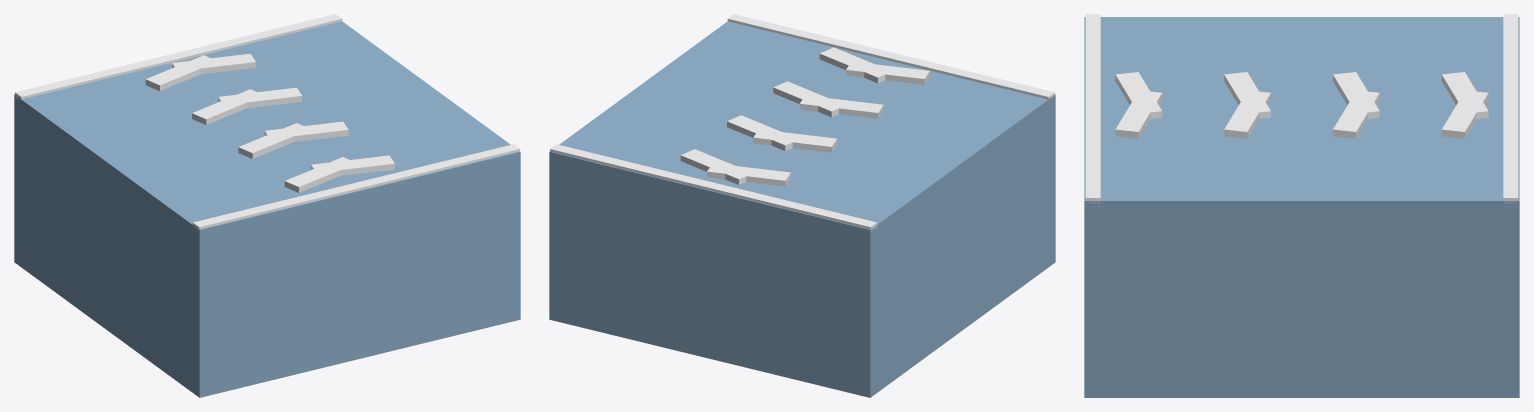
The model's file is OnOffConveyorB_TopHalf.glb.
The picture shows the model from 3 angles, left to right: view 1: azimuth 30°, elevation 25°; view 2: azimuth 150°, elevation 25°; view 3: azimuth 270°, elevation 25°; orthographic projection. The views are drawn at different scales.
Visible parts, largest first — view 1: OnOffConveyorB_TopHalf_body, rail_0.017, rail_-0.017, chev_1_-1.017, chev_2_-1.017, chev_0_1.017, chev_3_1.017, chev_3_-1.017, chev_0_-1.017, chev_2_1.017, chev_1_1.017; view 2: OnOffConveyorB_TopHalf_body, rail_0.017, rail_-0.017, chev_2_1.017, chev_1_1.017, chev_0_1.017, chev_3_1.017, chev_3_-1.017, chev_0_-1.017, chev_1_-1.017, chev_2_-1.017; view 3: OnOffConveyorB_TopHalf_body, rail_0.017, rail_-0.017, chev_0_1.017, chev_3_1.017, chev_1_1.017, chev_2_1.017, chev_0_-1.017, chev_3_-1.017, chev_1_-1.017, chev_2_-1.017.
Part boxes in pixels (x1=…): OnOffConveyorB_TopHalf_body: x1=14, y1=21, x2=520, y2=397; rail_0.017: x1=15, y1=14, x2=342, y2=100; rail_-0.017: x1=192, y1=144, x2=519, y2=230; chev_1_-1.017: x1=264, y1=121, x2=348, y2=141; chev_2_-1.017: x1=218, y1=87, x2=302, y2=108; chev_0_1.017: x1=284, y1=157, x2=356, y2=192; chev_3_1.017: x1=145, y1=55, x2=217, y2=90; chev_3_-1.017: x1=172, y1=53, x2=255, y2=74; chev_0_-1.017: x1=311, y1=155, x2=394, y2=175; chev_2_1.017: x1=192, y1=89, x2=256, y2=124; chev_1_1.017: x1=238, y1=123, x2=303, y2=158; OnOffConveyorB_TopHalf_body: x1=549, y1=21, x2=1055, y2=397; rail_0.017: x1=550, y1=144, x2=877, y2=231; rail_-0.017: x1=727, y1=14, x2=1054, y2=99; chev_2_1.017: x1=753, y1=129, x2=837, y2=152; chev_1_1.017: x1=799, y1=95, x2=883, y2=118; chev_0_1.017: x1=846, y1=61, x2=929, y2=84; chev_3_1.017: x1=707, y1=163, x2=790, y2=186; chev_3_-1.017: x1=680, y1=149, x2=752, y2=184; chev_0_-1.017: x1=819, y1=47, x2=891, y2=83; chev_1_-1.017: x1=773, y1=81, x2=844, y2=117; chev_2_-1.017: x1=727, y1=115, x2=792, y2=151; OnOffConveyorB_TopHalf_body: x1=1084, y1=17, x2=1519, y2=397; rail_0.017: x1=1503, y1=14, x2=1518, y2=203; rail_-0.017: x1=1085, y1=14, x2=1100, y2=203; chev_0_1.017: x1=1115, y1=72, x2=1162, y2=119; chev_3_1.017: x1=1441, y1=72, x2=1488, y2=119; chev_1_1.017: x1=1224, y1=72, x2=1270, y2=119; chev_2_1.017: x1=1333, y1=72, x2=1379, y2=119; chev_0_-1.017: x1=1115, y1=91, x2=1162, y2=138; chev_3_-1.017: x1=1441, y1=91, x2=1488, y2=138; chev_1_-1.017: x1=1224, y1=91, x2=1270, y2=138; chev_2_-1.017: x1=1333, y1=91, x2=1379, y2=138.
Bounding box in the file's own units: 1 × 0.5175 × 1.
